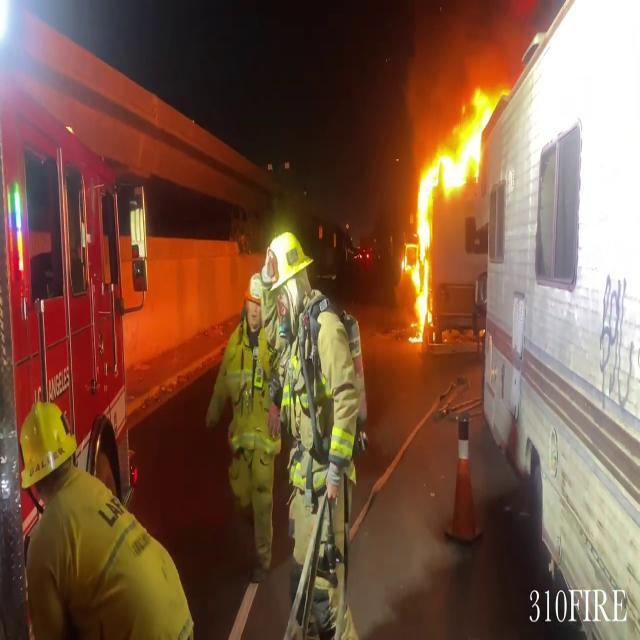Fire: (403, 68, 502, 336)
